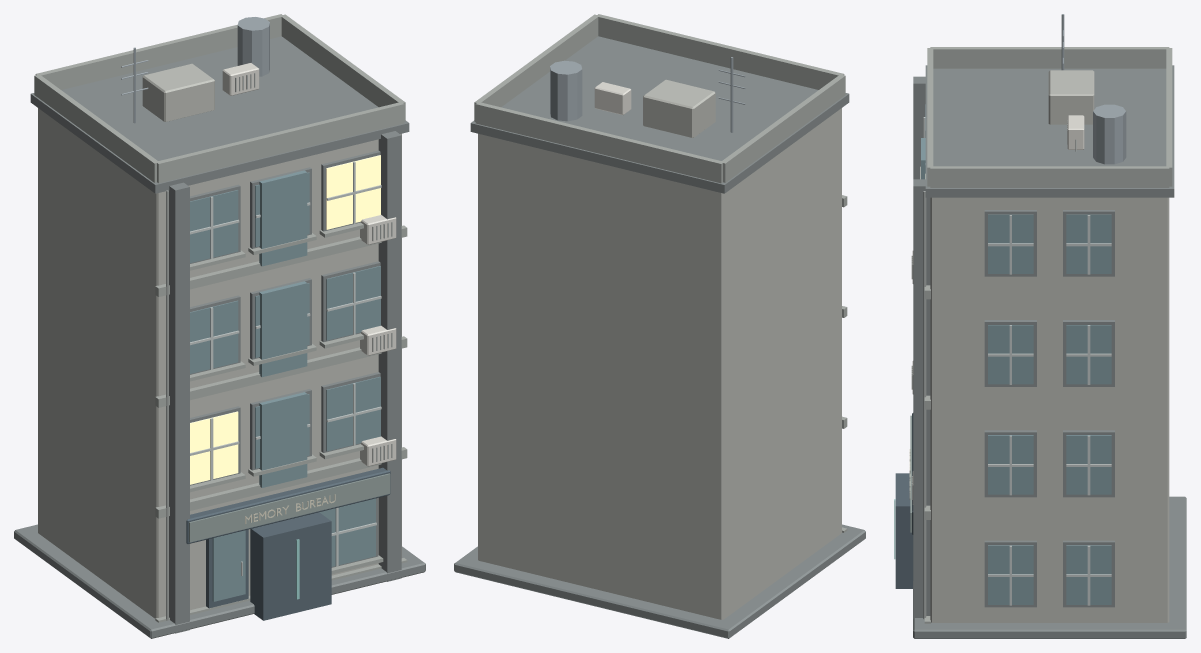
File: SM_ENV_Building_05_Bureau.glb
The picture shows the model from 3 angles, left to right: view 1: azimuth 30°, elevation 25°; view 2: azimuth 150°, elevation 25°; view 3: azimuth 270°, elevation 25°; orthographic projection.
Parts seen in each view (by area): view 1: SM_ENV_Building_05_Bureau; view 2: SM_ENV_Building_05_Bureau; view 3: SM_ENV_Building_05_Bureau.
Part boxes in pixels (bbox=[...]): SM_ENV_Building_05_Bureau: bbox=[14, 14, 425, 638]; SM_ENV_Building_05_Bureau: bbox=[454, 14, 865, 638]; SM_ENV_Building_05_Bureau: bbox=[894, 14, 1186, 638].
Size of the model in its own units: 7.3 by 13.2 by 6.73.
